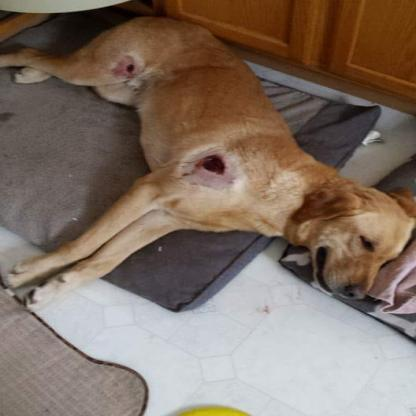dog: (0, 13, 416, 335)
injured: (180, 142, 234, 197), (116, 58, 156, 96)
